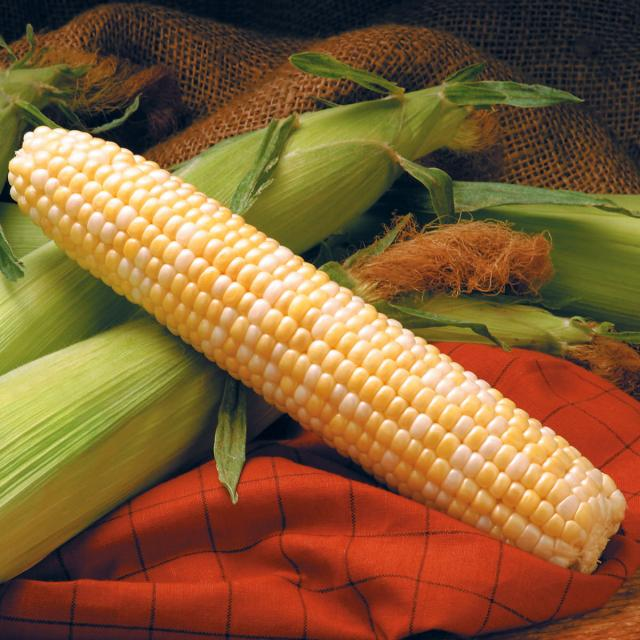corn: (3, 116, 633, 570)
